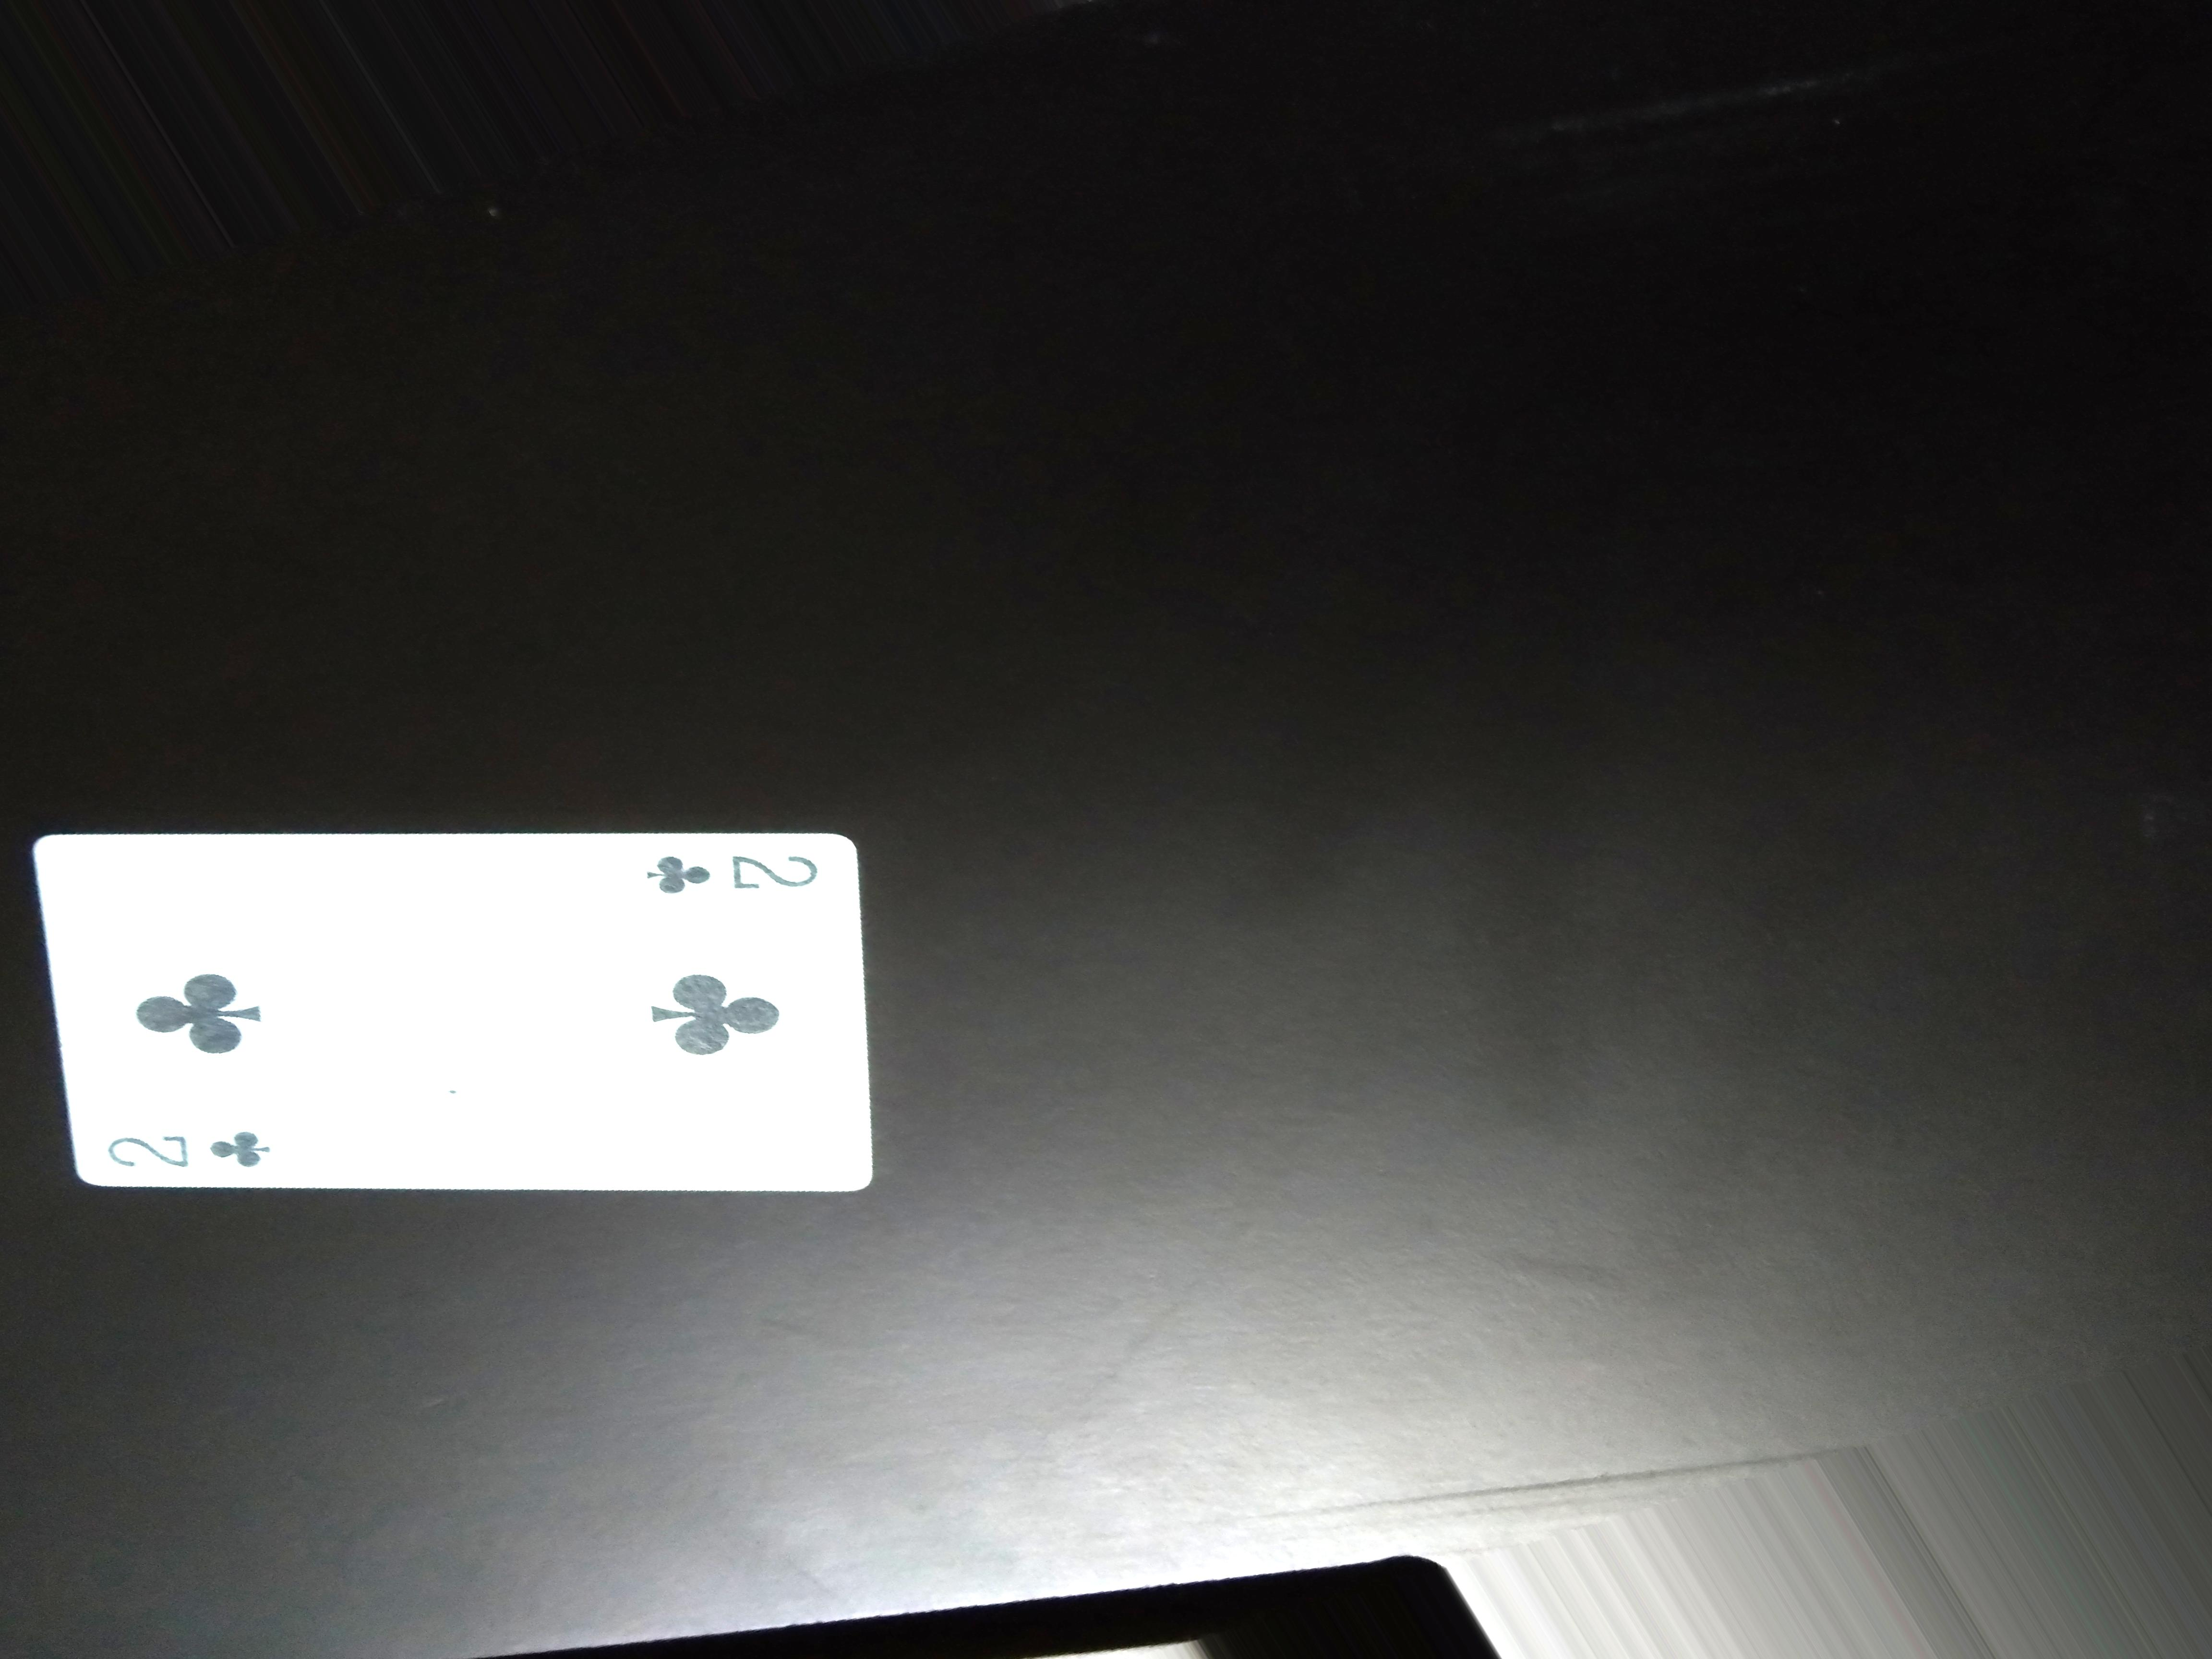2C: (634, 845, 848, 915)
